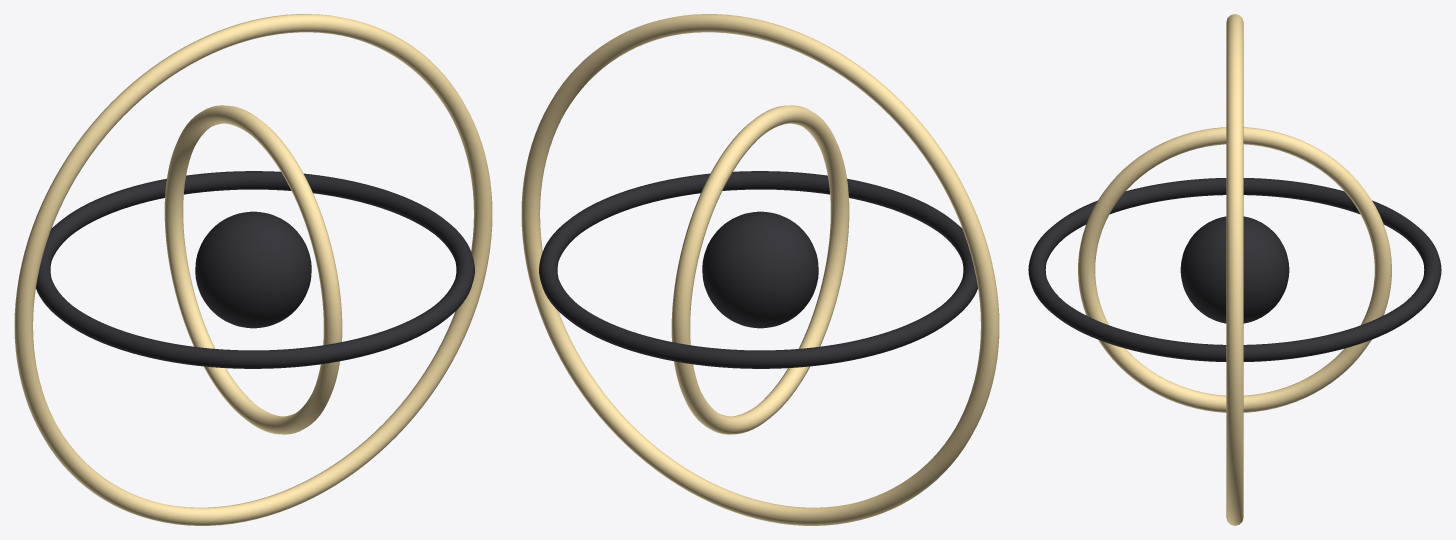
Rendered from abstract-rings-001.glb.
The picture shows the model from 3 angles, left to right: view 1: azimuth 30°, elevation 25°; view 2: azimuth 150°, elevation 25°; view 3: azimuth 270°, elevation 25°; orthographic projection. The views are drawn at different scales.
Visible parts, largest first — view 1: abstract-rings-001-0, abstract-rings-001-1, abstract-rings-001-2, abstract-rings-001-3; view 2: abstract-rings-001-0, abstract-rings-001-1, abstract-rings-001-2, abstract-rings-001-3; view 3: abstract-rings-001-1, abstract-rings-001-2, abstract-rings-001-0, abstract-rings-001-3.
Part boxes in pixels (x1=…): abstract-rings-001-0: x1=14, y1=14, x2=492, y2=525; abstract-rings-001-1: x1=36, y1=171, x2=474, y2=368; abstract-rings-001-2: x1=164, y1=105, x2=342, y2=434; abstract-rings-001-3: x1=195, y1=211, x2=311, y2=328; abstract-rings-001-0: x1=521, y1=14, x2=999, y2=525; abstract-rings-001-1: x1=539, y1=171, x2=977, y2=368; abstract-rings-001-2: x1=671, y1=105, x2=849, y2=434; abstract-rings-001-3: x1=702, y1=211, x2=818, y2=328; abstract-rings-001-1: x1=1028, y1=178, x2=1441, y2=361; abstract-rings-001-2: x1=1078, y1=127, x2=1391, y2=412; abstract-rings-001-0: x1=1226, y1=14, x2=1243, y2=525; abstract-rings-001-3: x1=1180, y1=216, x2=1289, y2=323.
Bounding box in the file's own units: 2.07 × 2.07 × 1.67.
